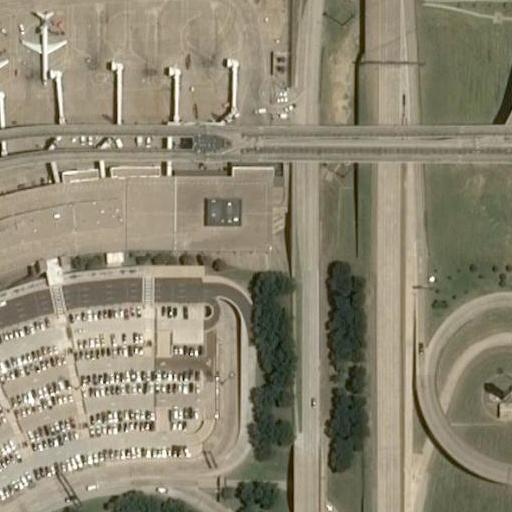Aircraft: (14, 2, 68, 84), (0, 22, 12, 110)
